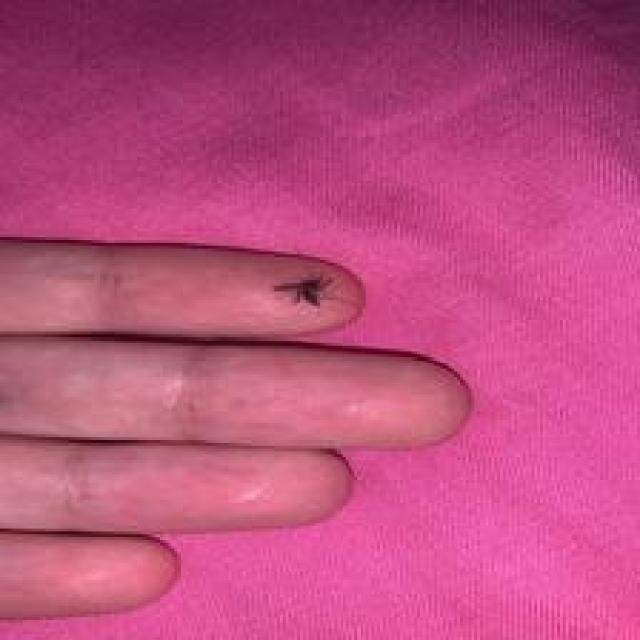Aedes albopictus: (273, 273, 330, 307)
